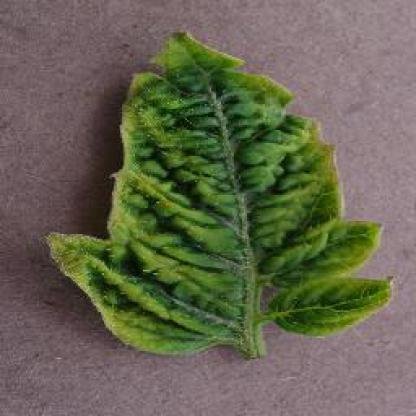bad leaf: (90, 42, 385, 360)
